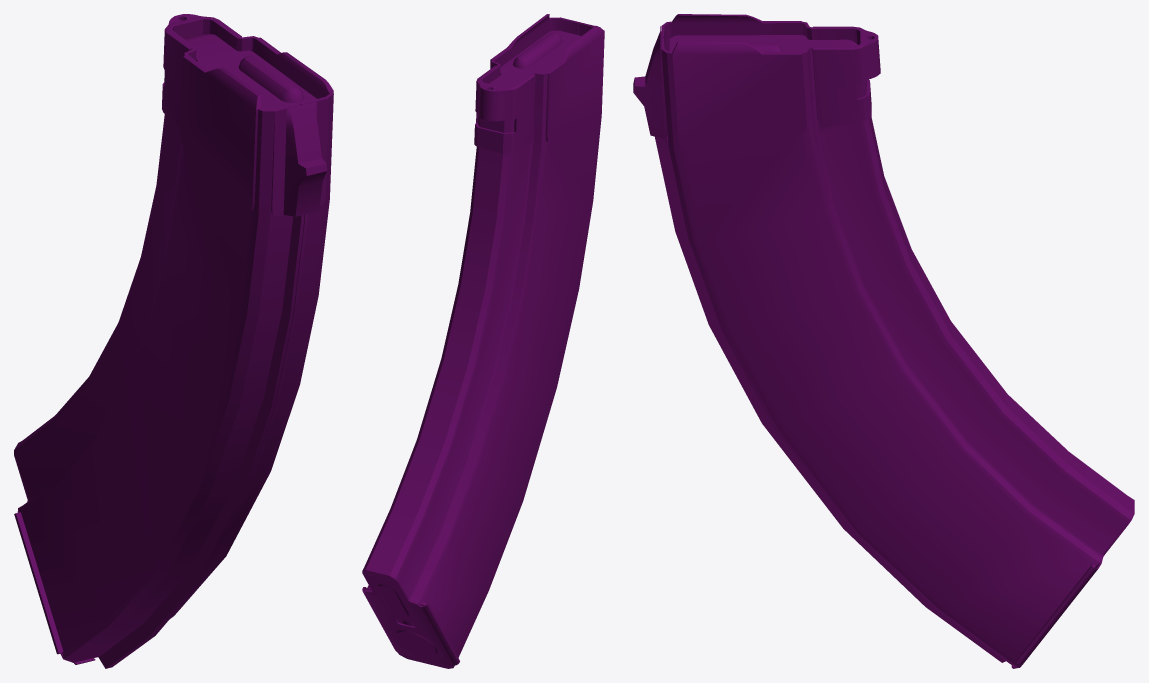
Rendered from Ak47M1_MagazineClean_Empty.FBX.
3 views of the same model, side by side, from view 1: azimuth 30°, elevation 25°; view 2: azimuth 150°, elevation 25°; view 3: azimuth 270°, elevation 25° (orthographic). The views are drawn at different scales.
Parts seen in each view (by area): view 1: Ak10_Magazine, Ak10_Follower, Ak10_Magazine_plate; view 2: Ak10_Magazine, Ak10_Magazine_plate, Ak10_Follower; view 3: Ak10_Magazine, Ak10_Follower, Ak10_Magazine_plate.
Part boxes in pixels (box(x1,y1,x2,y2)): Ak10_Magazine: box(15, 14, 333, 668); Ak10_Follower: box(185, 34, 316, 109); Ak10_Magazine_plate: box(14, 442, 97, 664); Ak10_Magazine: box(363, 14, 604, 666); Ak10_Magazine_plate: box(362, 569, 459, 668); Ak10_Follower: box(489, 30, 581, 87); Ak10_Magazine: box(633, 14, 1133, 667); Ak10_Follower: box(669, 35, 857, 52); Ak10_Magazine_plate: box(1011, 499, 1134, 668).
Size of the model in its own units: 2.54 by 20.39 by 14.63.
